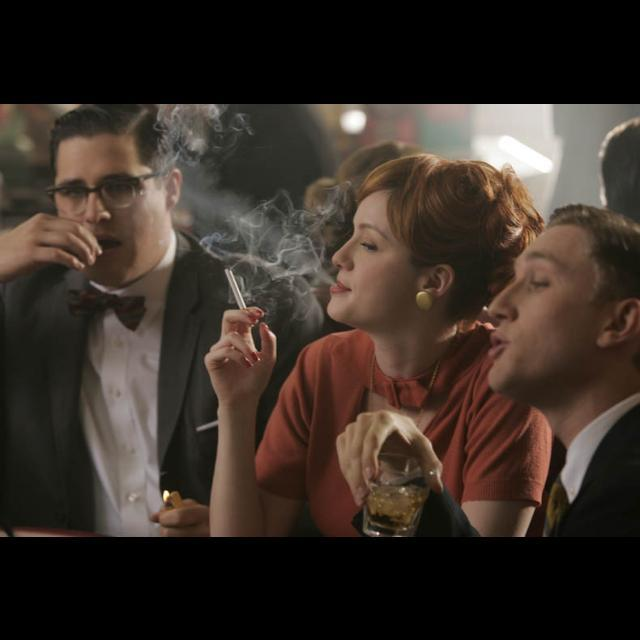rokok: (224, 265, 252, 311)
